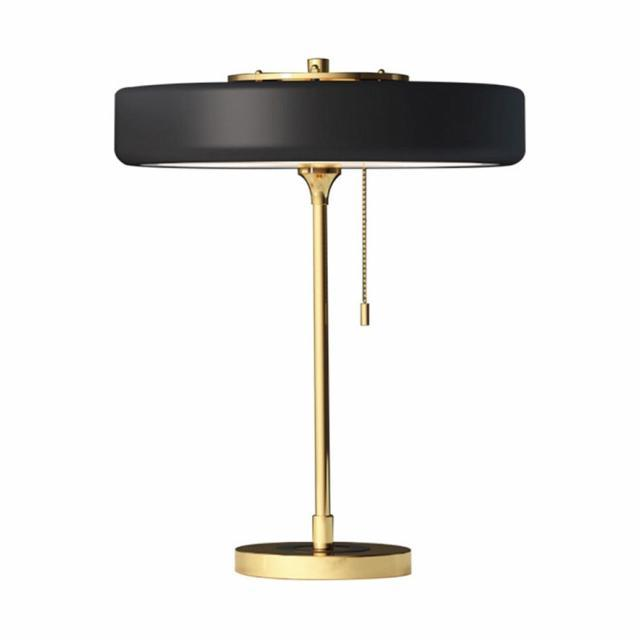lamp: (94, 45, 547, 596)
